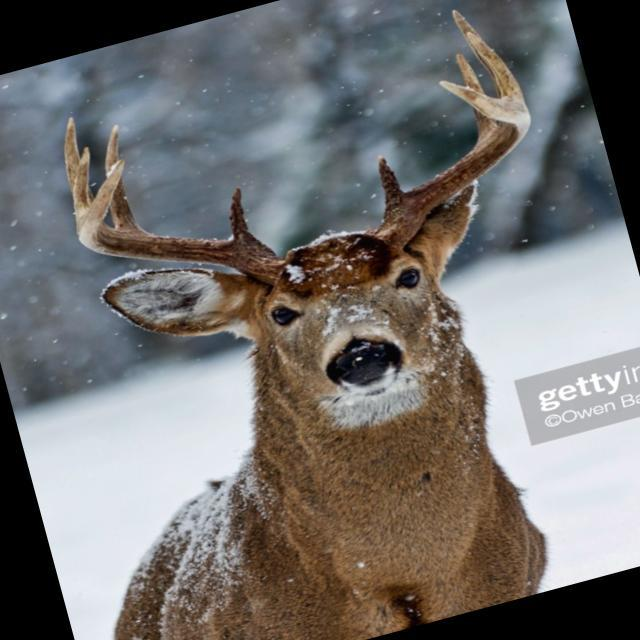L-F: (367, 79, 532, 249)
L-G1: (376, 154, 412, 219)
R-F: (78, 158, 295, 286)
R-G1: (227, 185, 261, 242)
